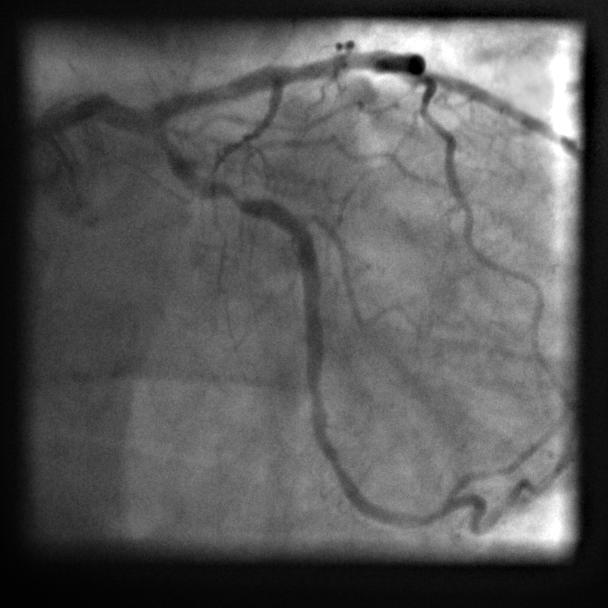Stenosis: (219, 180, 239, 209)
